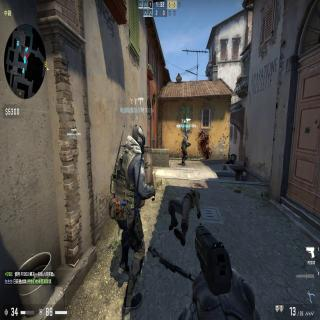CT-Body: (107, 124, 156, 313), (180, 132, 190, 165)
CT-Head: (132, 126, 145, 154), (186, 132, 188, 140)
